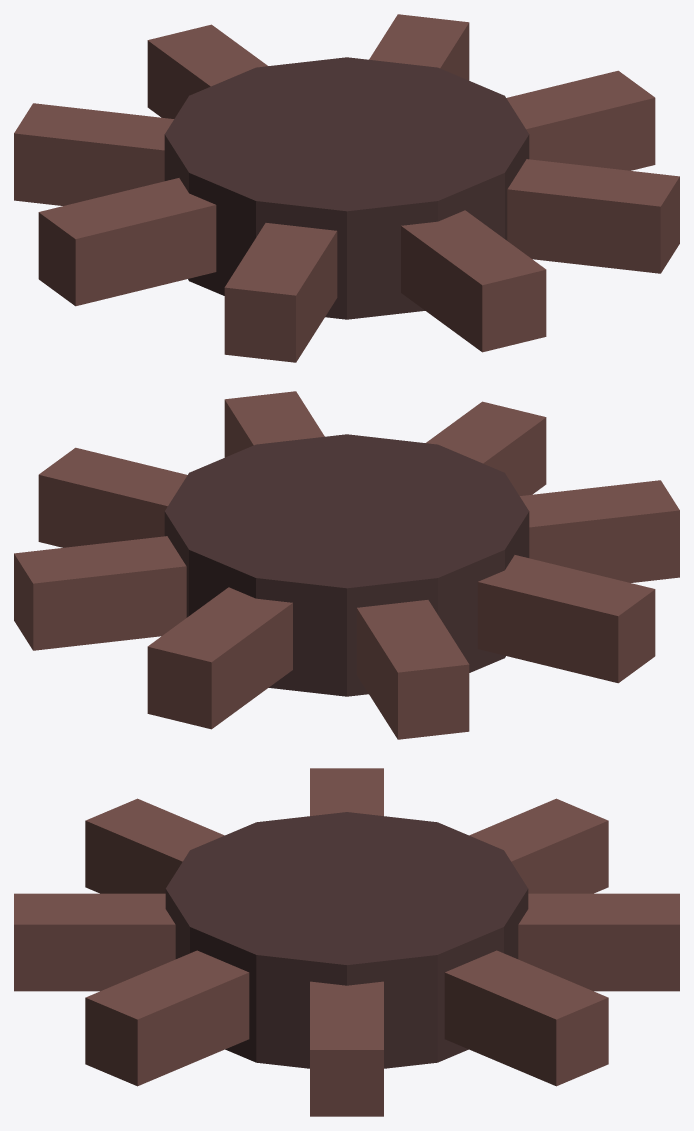
The model's file is DarkRoseWoodMechSmall8ToothCog1.fbx.
3 views of the same model, one above another, from view 1: azimuth 30°, elevation 25°; view 2: azimuth 150°, elevation 25°; view 3: azimuth 270°, elevation 25° (orthographic).
Parts seen in each view (by area): view 1: GearTeeth, GearBody; view 2: GearTeeth, GearBody; view 3: GearTeeth, GearBody.
Boxes of the visible parts, x1,y1,x2,y2 form: GearTeeth: [14, 14, 679, 362]; GearBody: [164, 57, 529, 319]; GearTeeth: [14, 391, 679, 739]; GearBody: [164, 434, 529, 696]; GearTeeth: [14, 768, 679, 1116]; GearBody: [165, 812, 528, 1068].
Size of the model in its own units: 166 by 29.7 by 166.
